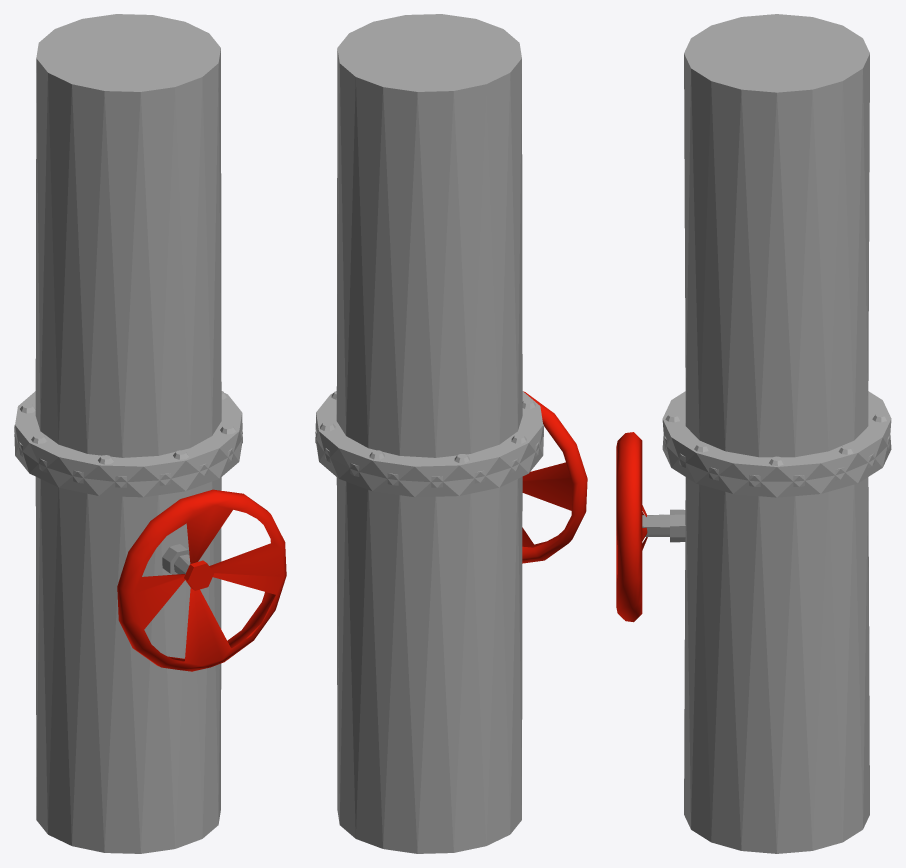
File: intersecao (1).fbx
The picture shows the model from 3 angles, left to right: view 1: azimuth 30°, elevation 25°; view 2: azimuth 150°, elevation 25°; view 3: azimuth 270°, elevation 25°; orthographic projection.
Visible parts, largest first — view 1: Cano1, Cylinder.001, Valvula; view 2: Cano1, Cylinder.001, Valvula; view 3: Cano1, Cylinder.001, Valvula.
Boxes of the visible parts, bbox=[...] form: Cano1: bbox=[14, 14, 242, 487]; Cylinder.001: bbox=[14, 425, 242, 853]; Valvula: bbox=[117, 489, 286, 671]; Cano1: bbox=[315, 14, 543, 487]; Cylinder.001: bbox=[315, 424, 543, 853]; Valvula: bbox=[522, 391, 587, 563]; Cano1: bbox=[662, 14, 891, 486]; Cylinder.001: bbox=[662, 435, 891, 853]; Valvula: bbox=[616, 432, 685, 622].
Bounding box in the file's own units: 246 × 903 × 296.
